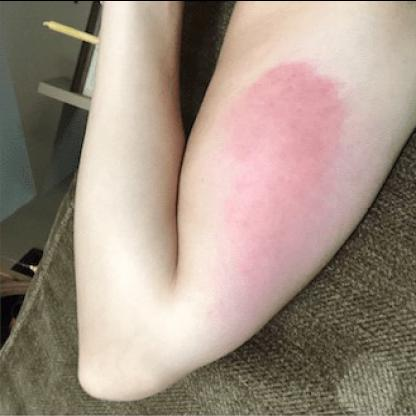Wasp: (226, 64, 348, 246)
